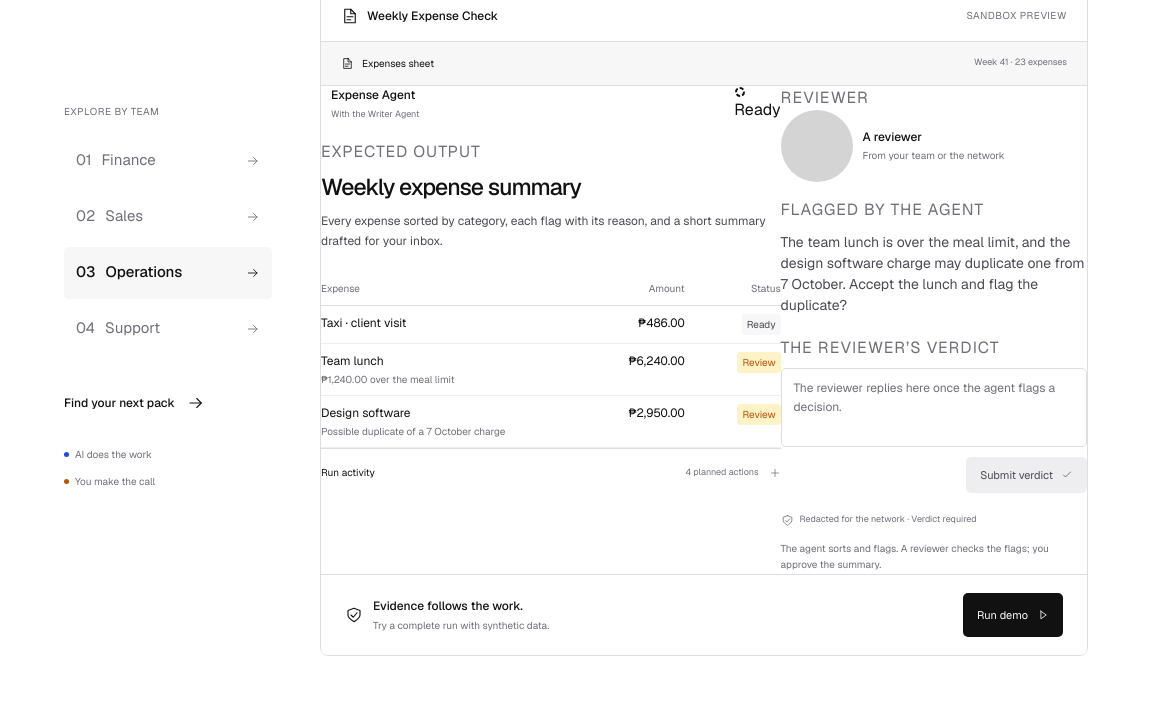
Scenario: WorkExplorer › shows the expense flags for review, and records the reviewer's verdict on each
This screenshot has width=1152, height=720.
(page scrolled)
Click the button "Run demo" at (1013, 615), box x1=963 y1=593 x2=1063 y2=637
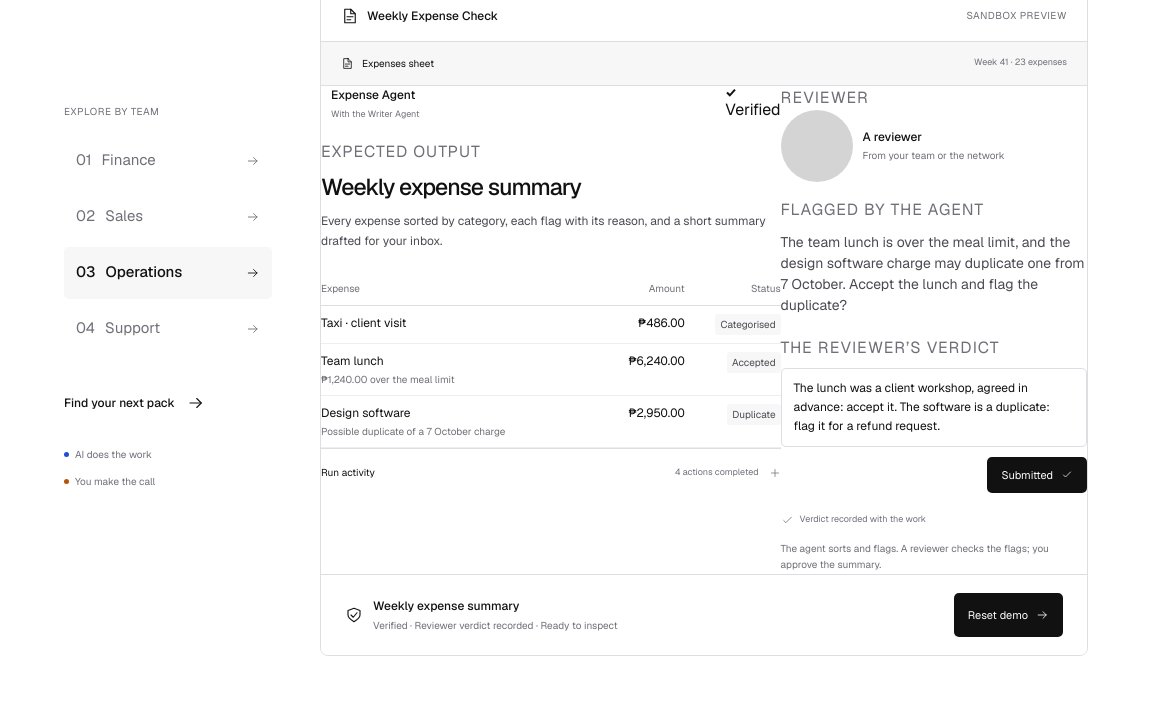
Expected: the text "Verdict recorded with the work" is shown, x1=800 y1=513 x2=926 y2=527
Expected: the element with class "workflow-result" shows "Reviewer verdict recorded", x1=373 y1=619 x2=618 y2=632
